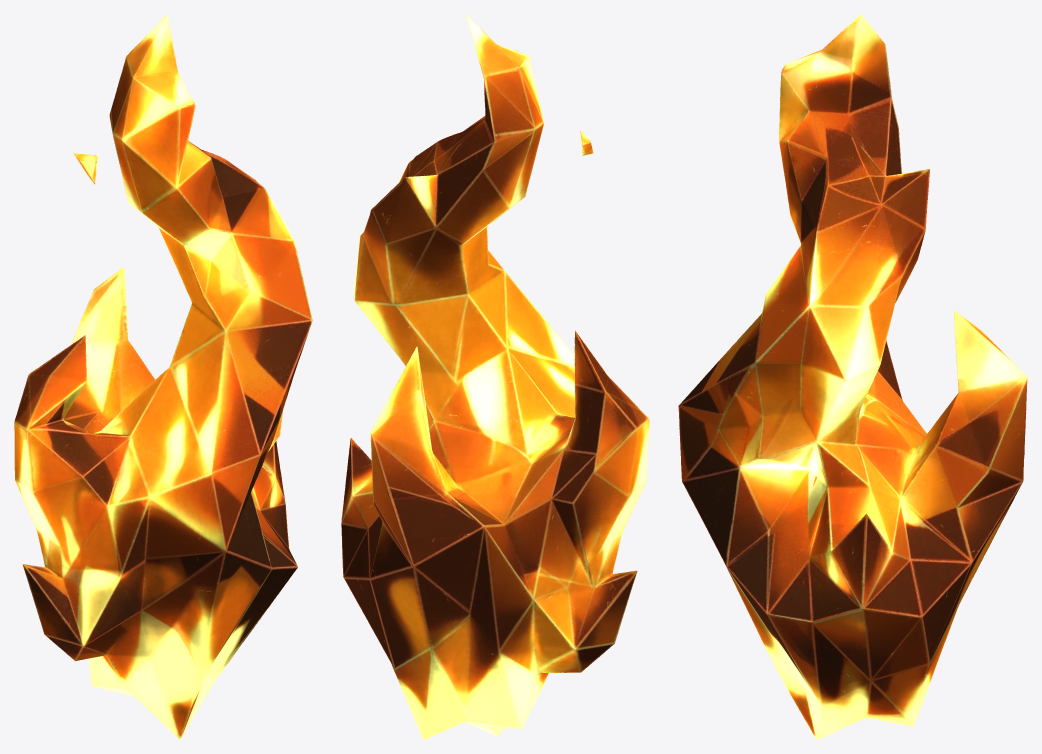
The model's file is flame-shard.glb.
3 renders of one model, left to right at view 1: azimuth 30°, elevation 25°; view 2: azimuth 150°, elevation 25°; view 3: azimuth 270°, elevation 25°, orthographic. The views are drawn at different scales.
Bounding box in the file's own units: 0.7795 × 1.9 × 0.822.
Materials: 1 (1 with a texture image).
